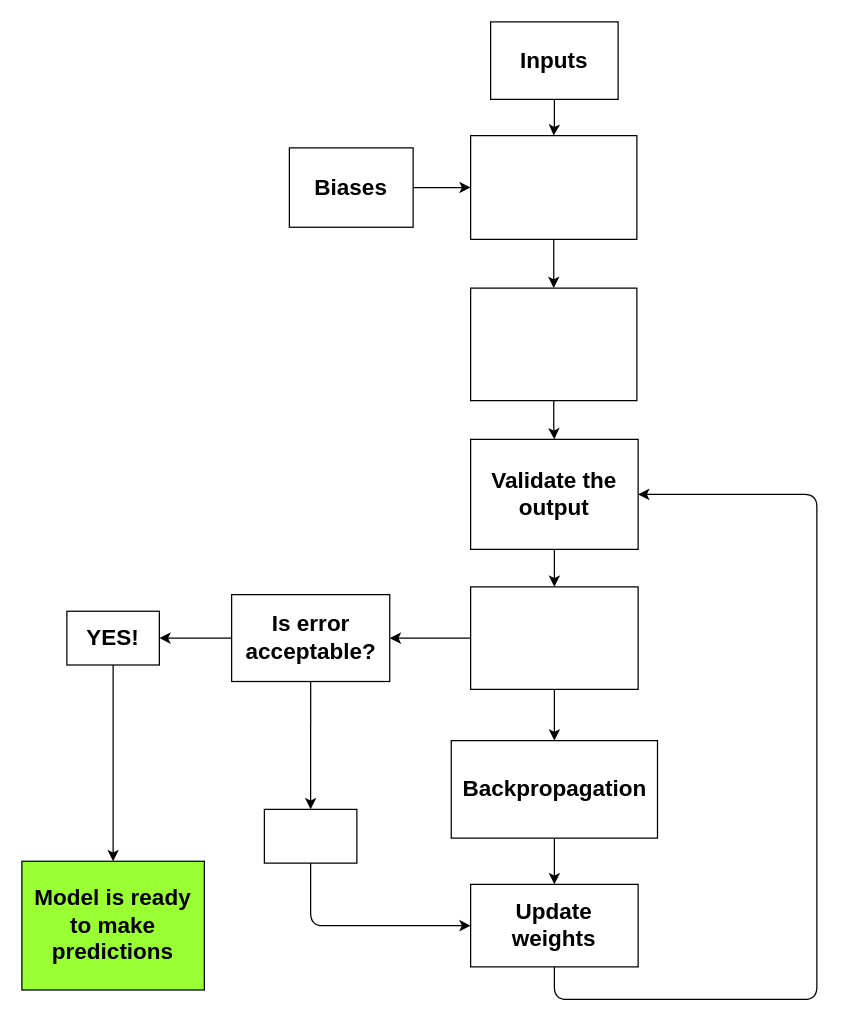
This 849x1031 diagram has some shape labels left out. Each missing label, with the centre of its shape:
Calculate the error: point (553, 637)
NO: point (310, 835)
Randonly Assign Weights: point (553, 186)
Train the model: point (553, 344)
